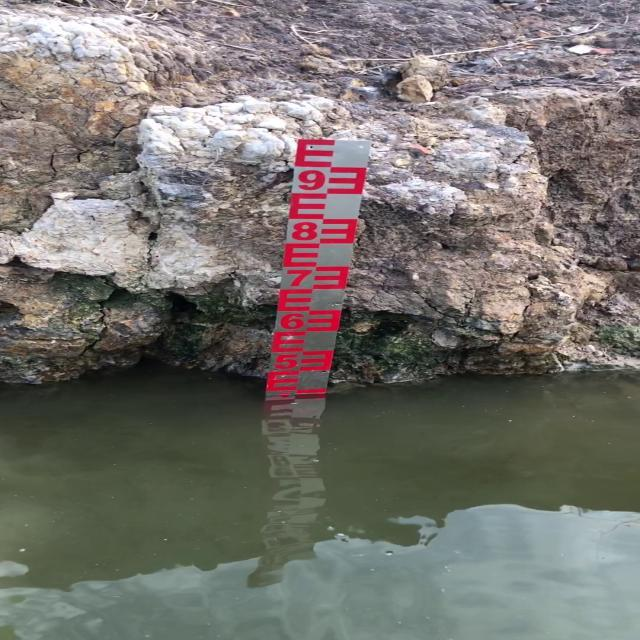ruler: (250, 124, 384, 419)
value: (292, 164, 328, 195), (287, 218, 321, 244), (282, 265, 316, 291), (276, 309, 308, 335), (269, 350, 302, 373)
